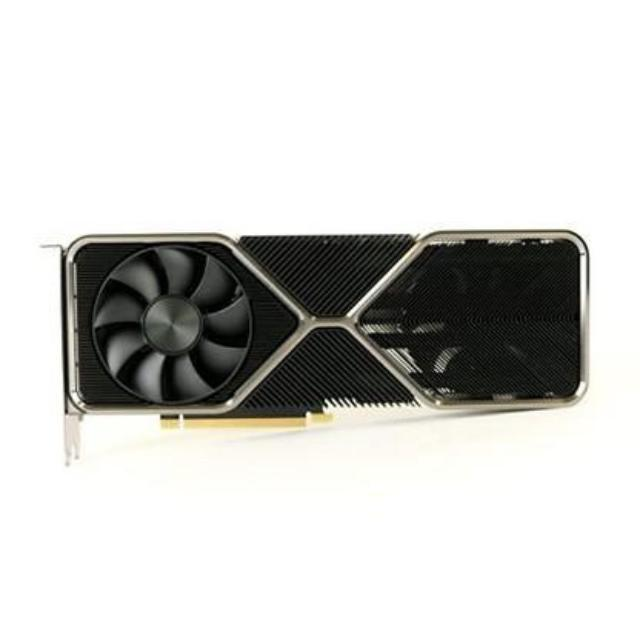GPU: (51, 226, 591, 442)
